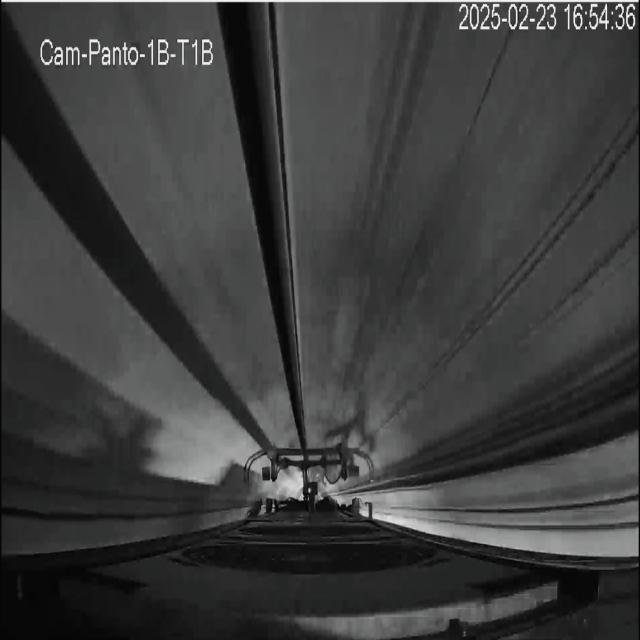Camera Stamp: (38, 34, 221, 70)
Date Stamp: (459, 3, 637, 33)
No - Spark: (245, 442, 373, 507)
